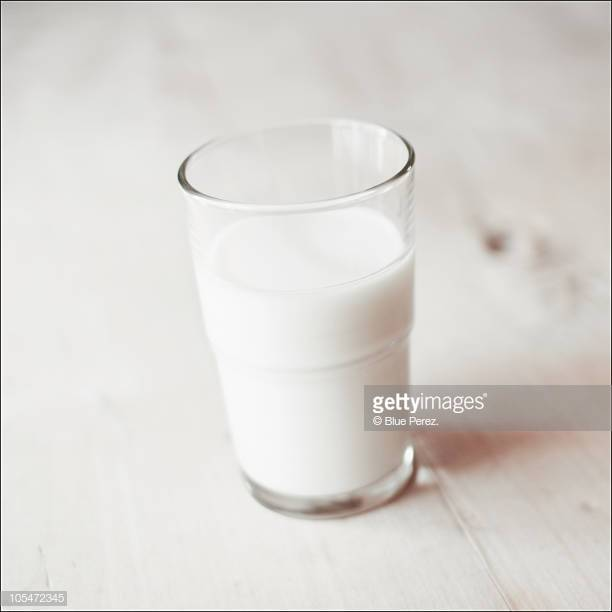glass of milk: (201, 170, 353, 521)
